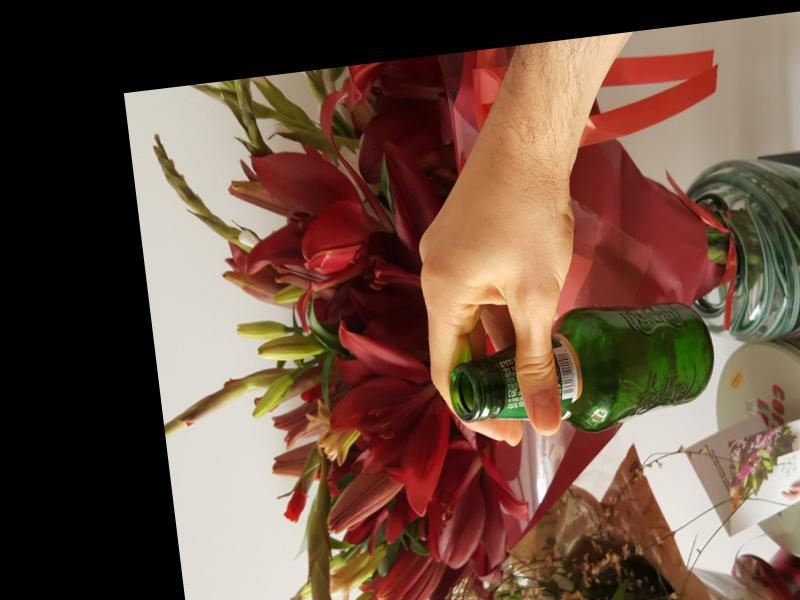Beer: (444, 297, 721, 448)
